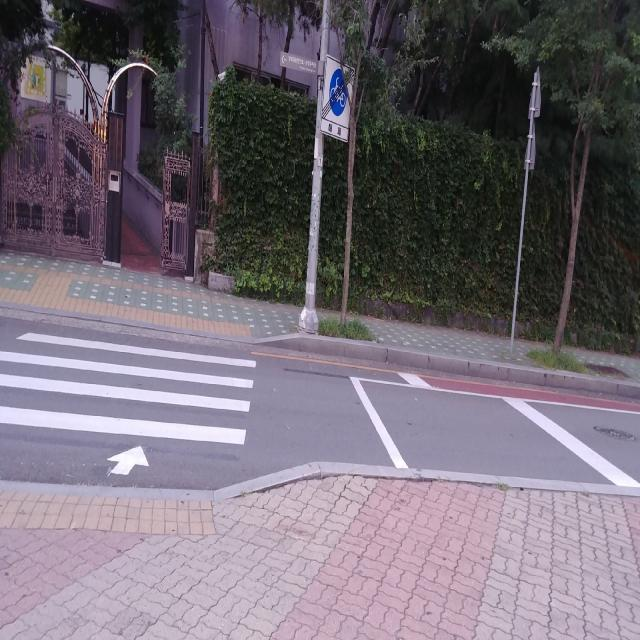횡단보도: (0, 328, 258, 477)
